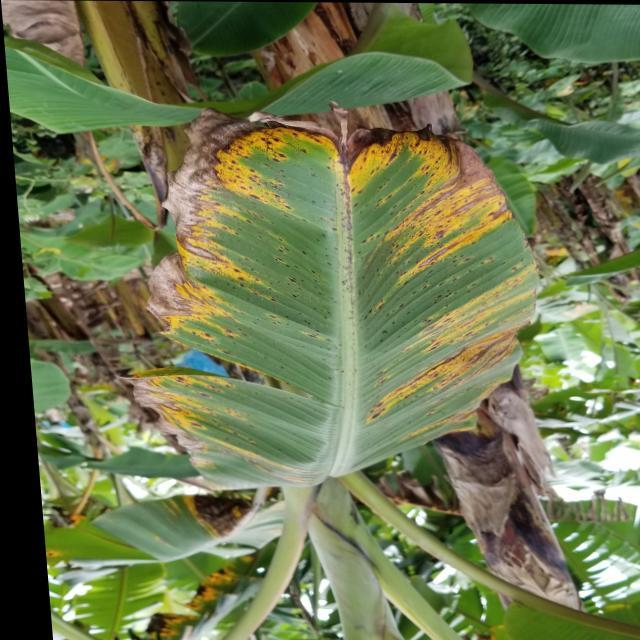Early_rust: (136, 104, 528, 528), (127, 525, 299, 640)
